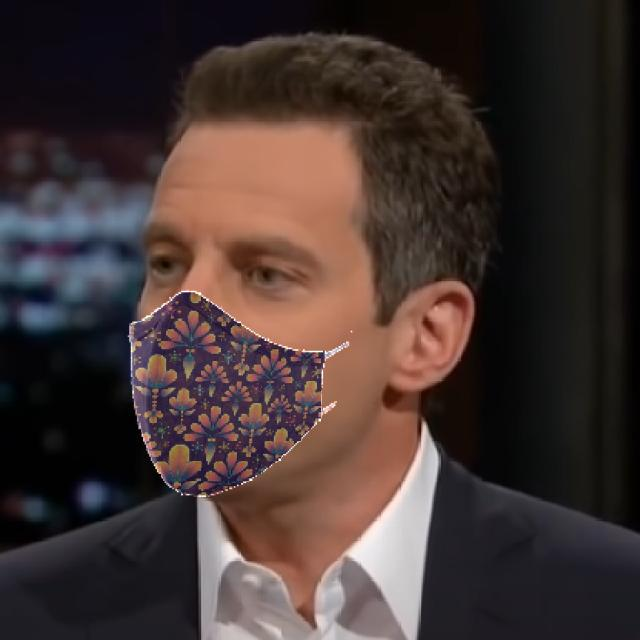mask: (106, 278, 362, 525)
